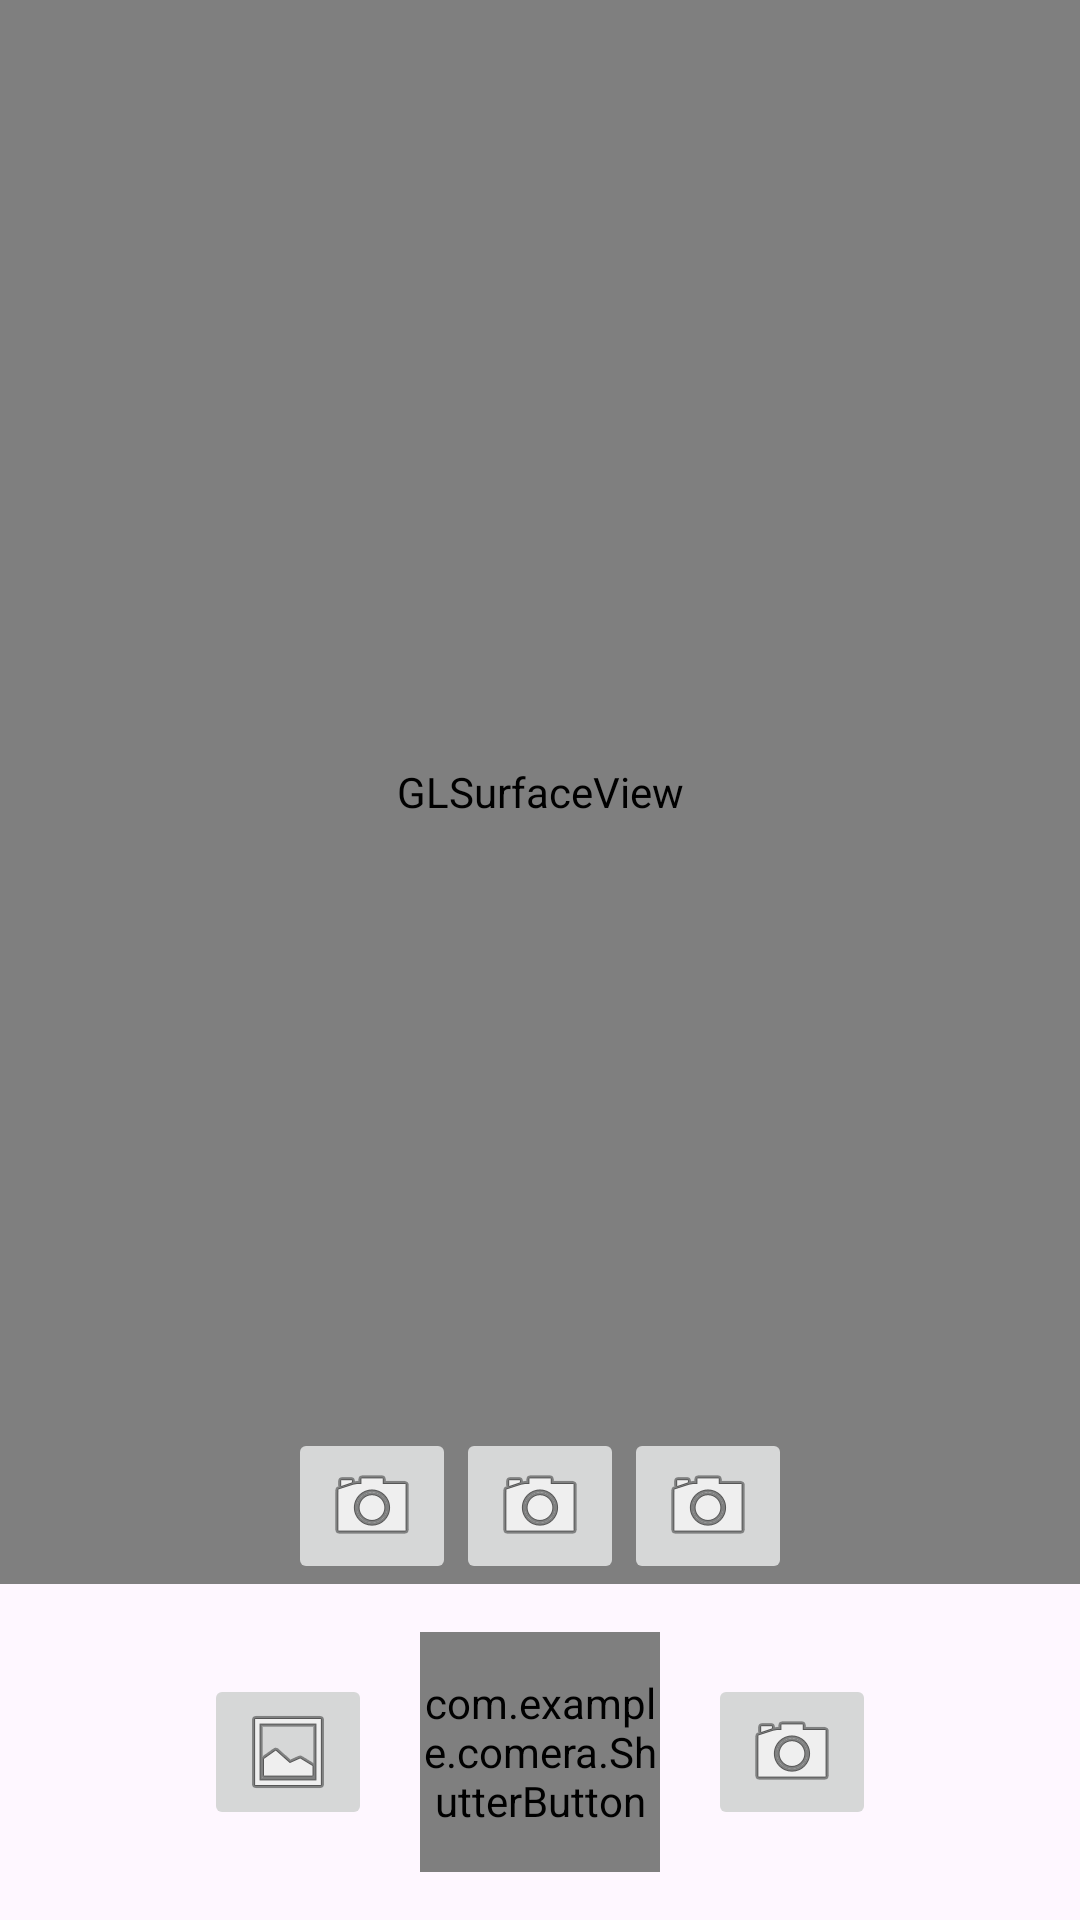

Named icons in this screenshot (1080 × 1920) and their centers, point (x, y):
gallery: point (288, 1752)
